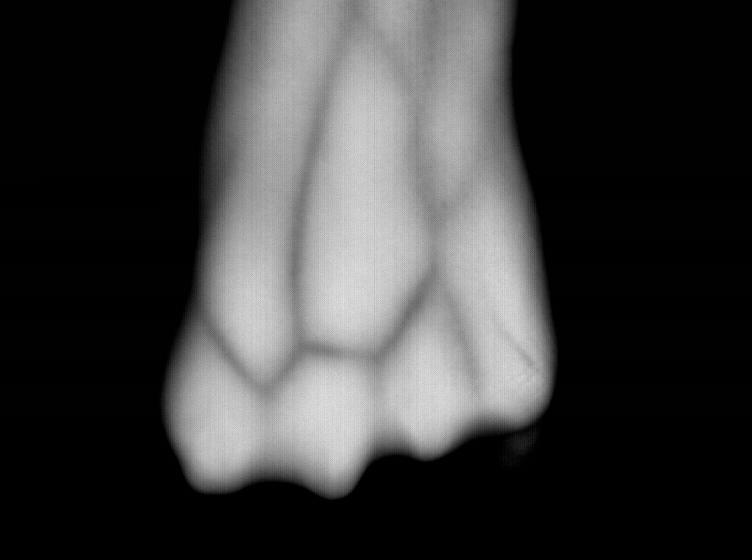Vein: (268, 68, 439, 393)
